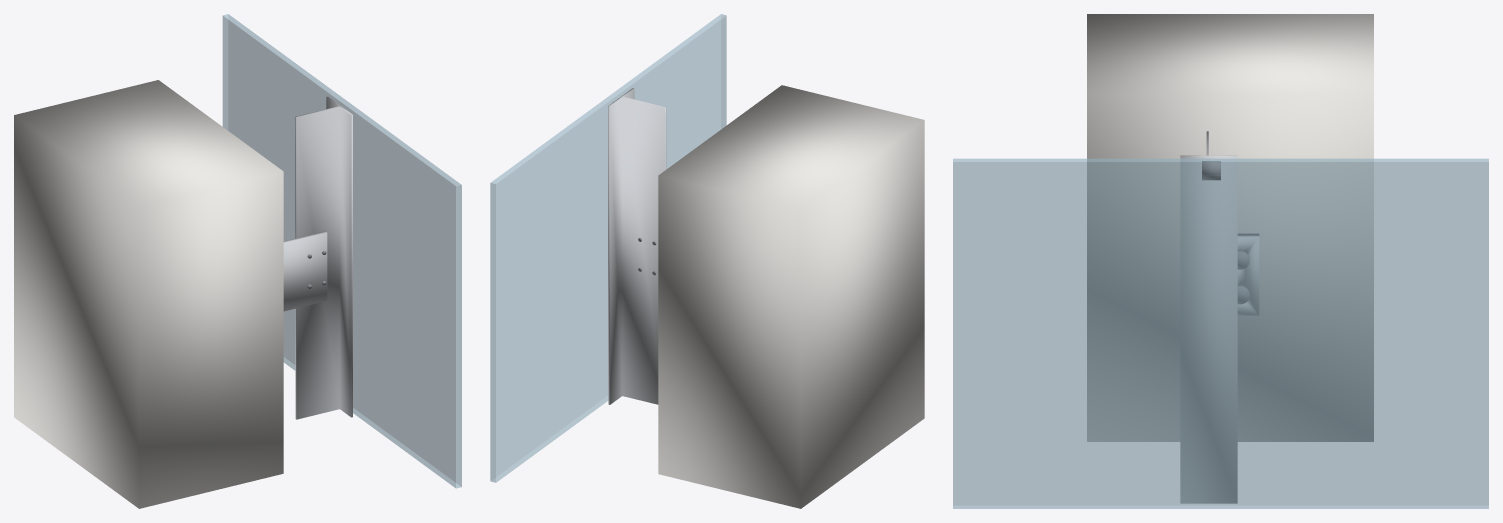
File: ventilated-facade-bracket.glb
3 views of the same model, side by side, from view 1: azimuth 30°, elevation 25°; view 2: azimuth 150°, elevation 25°; view 3: azimuth 270°, elevation 25° (orthographic). The views are drawn at different scales.
Visible parts, largest first — view 1: Concrete_wall__context_, Fibre-cement_panel_8mm, T-rail_web__aluminium_, L-bracket__aluminium_; view 2: Concrete_wall__context_, Fibre-cement_panel_8mm, T-rail_web__aluminium_; view 3: Fibre-cement_panel_8mm, Concrete_wall__context_, T-rail_web__aluminium_, L-bracket__aluminium_.
Part boxes in pixels (x1=…): Concrete_wall__context_: x1=14, y1=80, x2=283, y2=508; Fibre-cement_panel_8mm: x1=222, y1=14, x2=461, y2=488; T-rail_web__aluminium_: x1=295, y1=96, x2=352, y2=419; L-bracket__aluminium_: x1=283, y1=231, x2=327, y2=311; Concrete_wall__context_: x1=658, y1=85, x2=924, y2=508; Fibre-cement_panel_8mm: x1=490, y1=14, x2=726, y2=482; T-rail_web__aluminium_: x1=608, y1=88, x2=666, y2=404; Fibre-cement_panel_8mm: x1=953, y1=158, x2=1488, y2=508; Concrete_wall__context_: x1=1087, y1=14, x2=1373, y2=441; T-rail_web__aluminium_: x1=1180, y1=131, x2=1237, y2=503; L-bracket__aluminium_: x1=1238, y1=236, x2=1258, y2=315.
Bounding box in the file's own units: 0.366 × 0.4 × 0.56.
